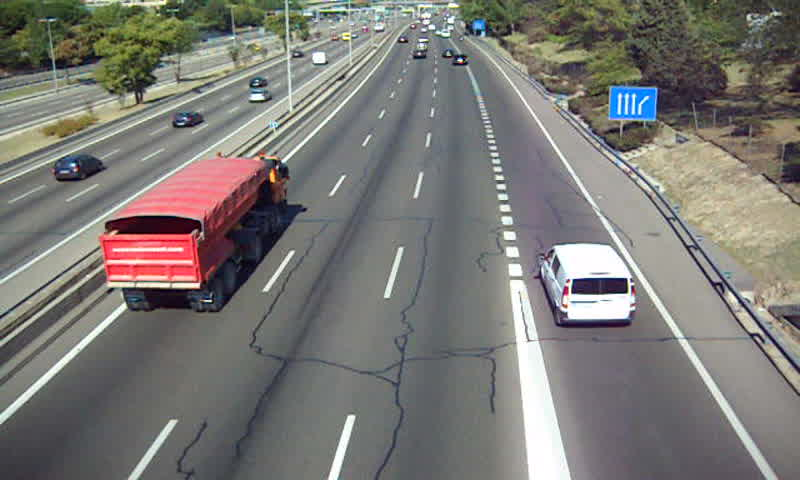car: (451, 54, 468, 67)
truck: (98, 155, 288, 310)
van: (538, 244, 636, 324)
